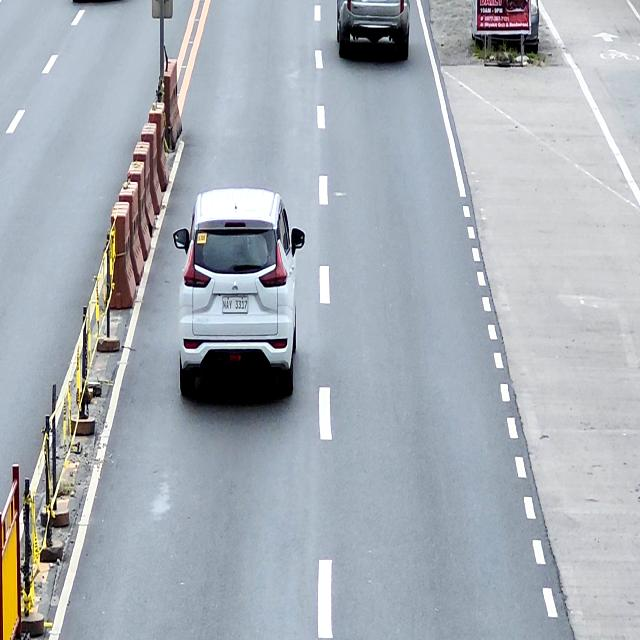Car: (173, 186, 306, 399), (337, 0, 410, 59)
License-Plate: (222, 296, 249, 313)
